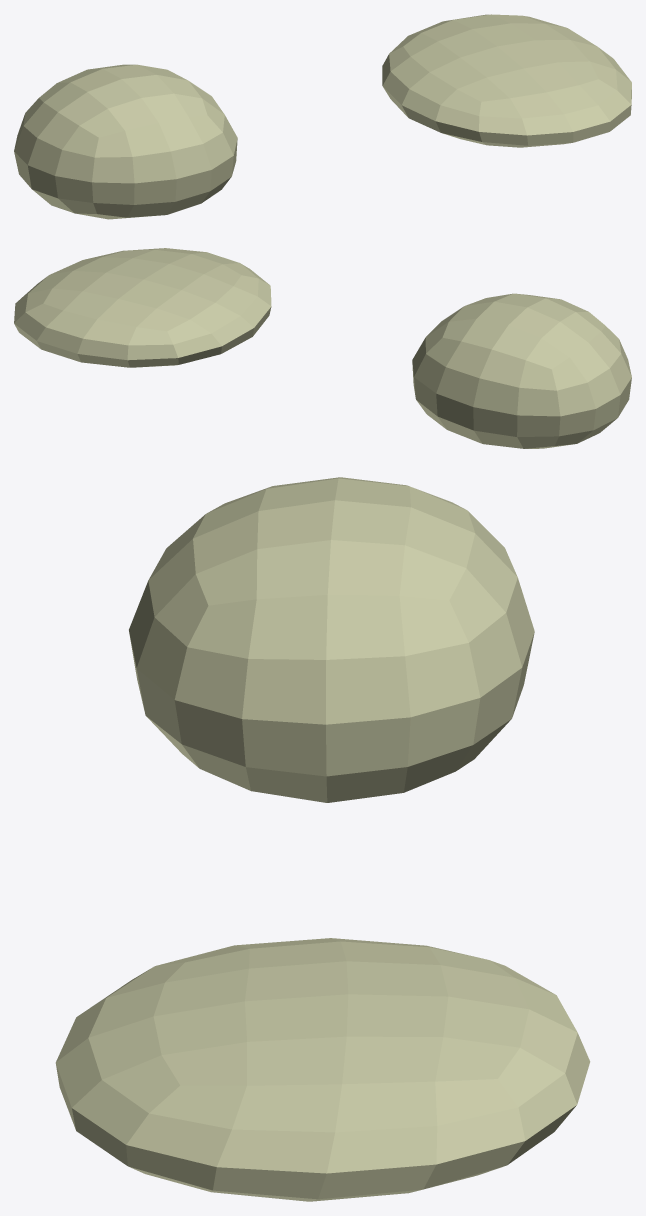
The model's file is dough.fbx.
The picture shows the model from 3 angles, top to bottom: view 1: azimuth 30°, elevation 25°; view 2: azimuth 150°, elevation 25°; view 3: azimuth 270°, elevation 25°; orthographic projection. The views are drawn at different scales.
Visible parts, largest first — view 1: Cube, Cube.001; view 2: Cube, Cube.001; view 3: Cube.001, Cube.
Part boxes in pixels (bbox=[...]): Cube: bbox=[14, 64, 237, 219]; Cube.001: bbox=[382, 14, 631, 147]; Cube: bbox=[412, 293, 631, 448]; Cube.001: bbox=[14, 248, 271, 367]; Cube.001: bbox=[55, 938, 590, 1201]; Cube: bbox=[129, 477, 534, 802].
Size of the model in its own units: 66.23 by 13.76 by 26.29.
